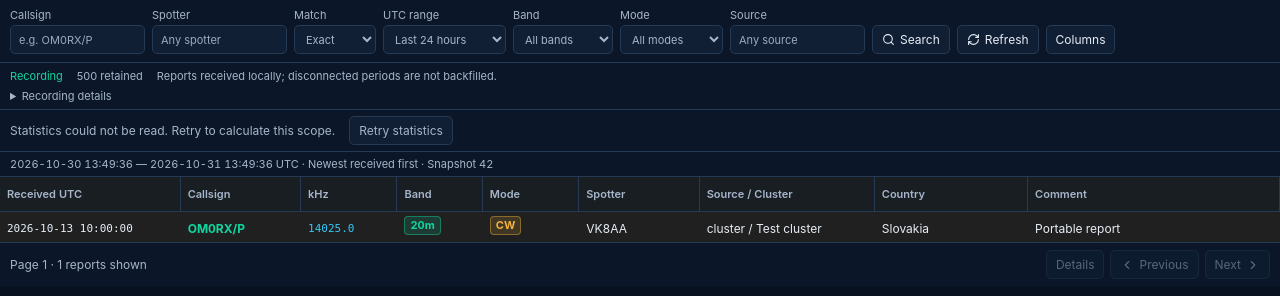
Scenario: Spot History recovery and authority › retains rows when statistics fail and offers a scoped retry
This screenshot has width=1280, height=296.
Expected: the text "OM0RX/P" is shown, [181,212,301,242]
Click the button "Retry statistics" at (401, 130), box [349,116,453,145]
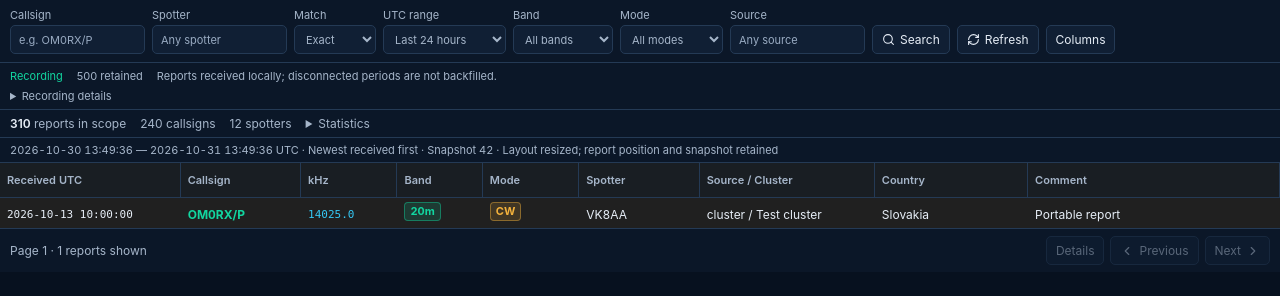
Expected: the text "310" is shown, [10,116,31,131]
